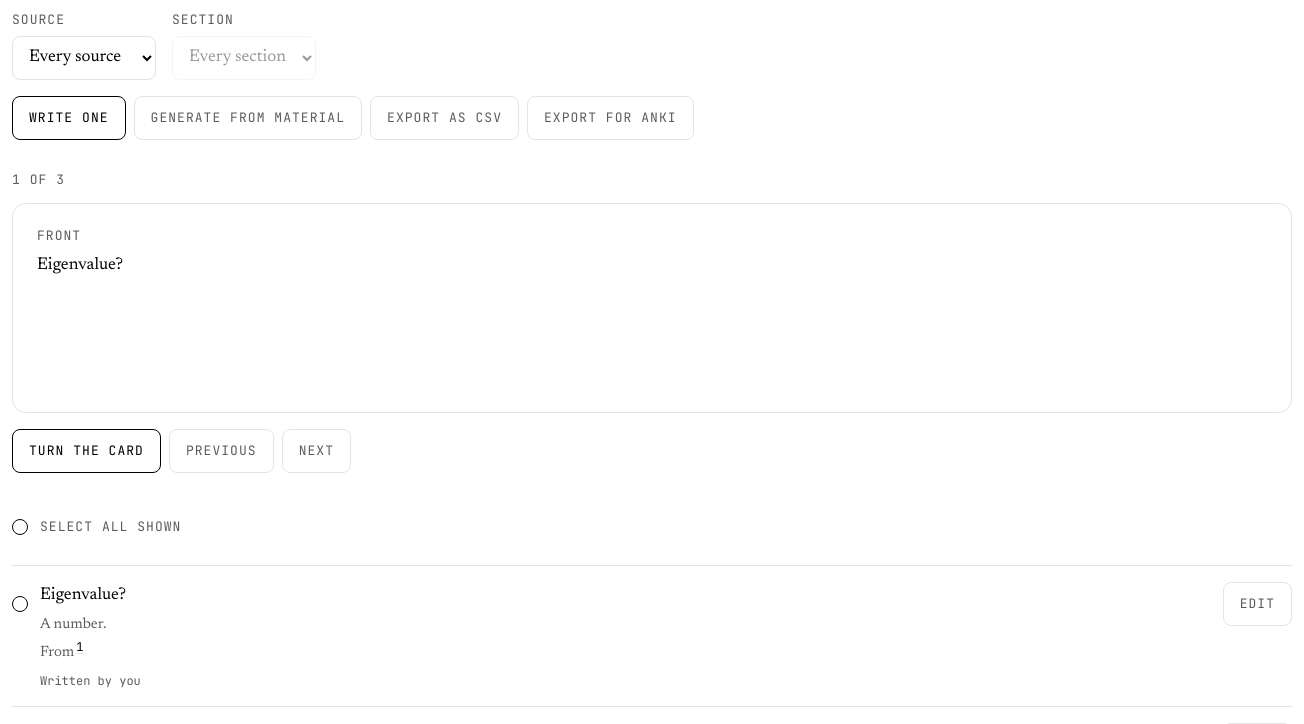
Test case: generating from material › warns which of the chosen sections already have this type
Click the button "Generate from material" at {"x": 248, "y": 118}, box [134,96,362,140]
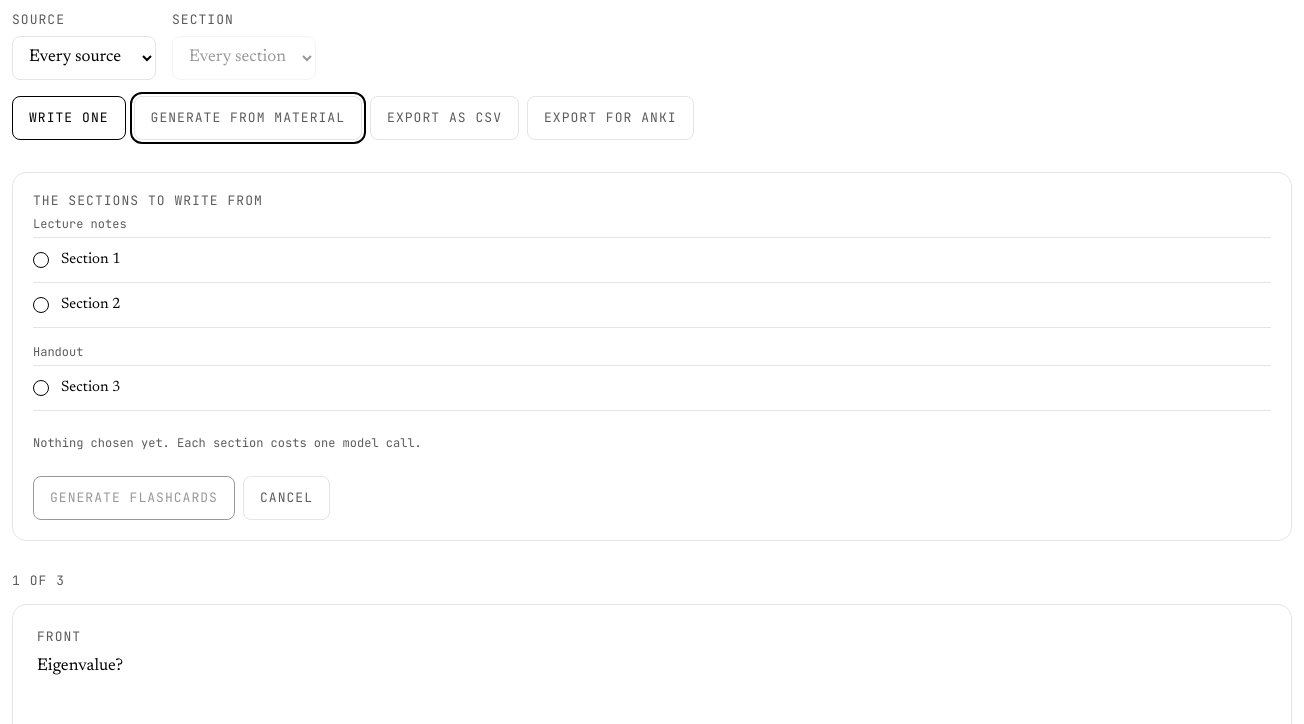
Click the checkbox labelled "Section 1" at {"x": 41, "y": 260}, box [33,252,49,268]
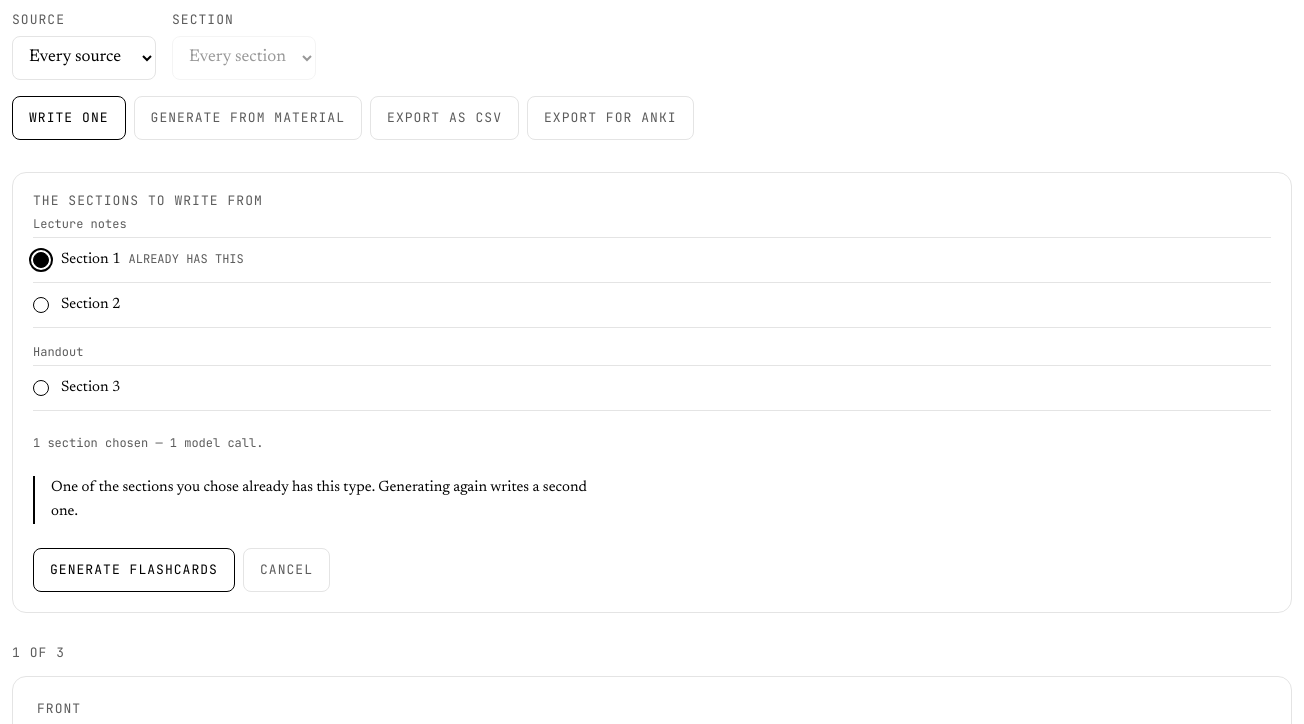
expect the message shows "One of the sections you chose already has this type. Generating again writes a second one.": met, box [33,476,594,524]
